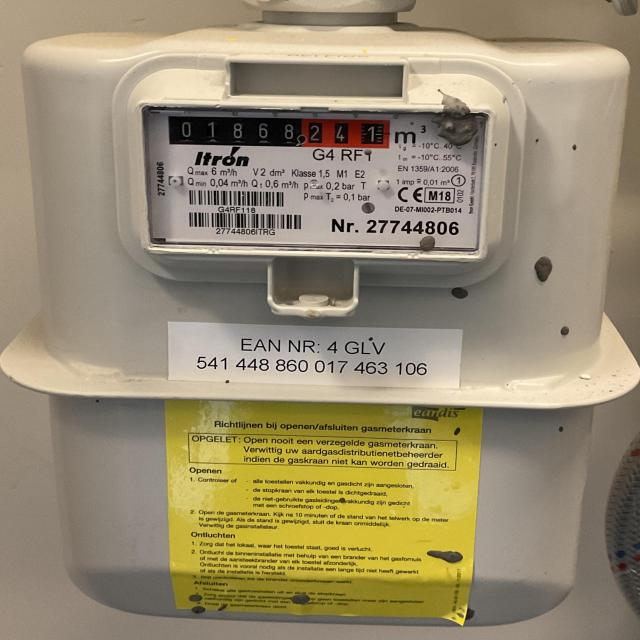gaz_meter: (137, 97, 490, 257)
indication: (165, 115, 393, 151)
